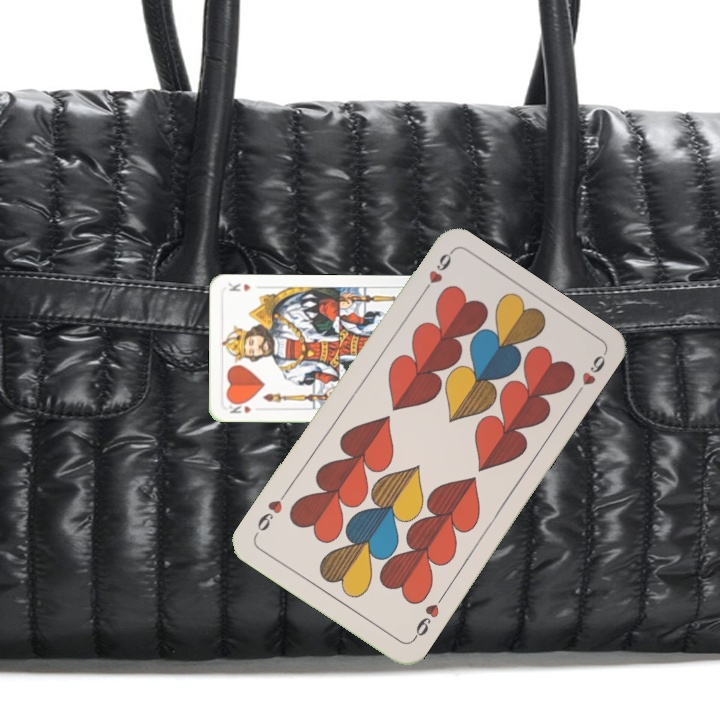H9: (408, 591, 447, 644), (415, 249, 455, 300)
HK: (223, 398, 254, 416)
